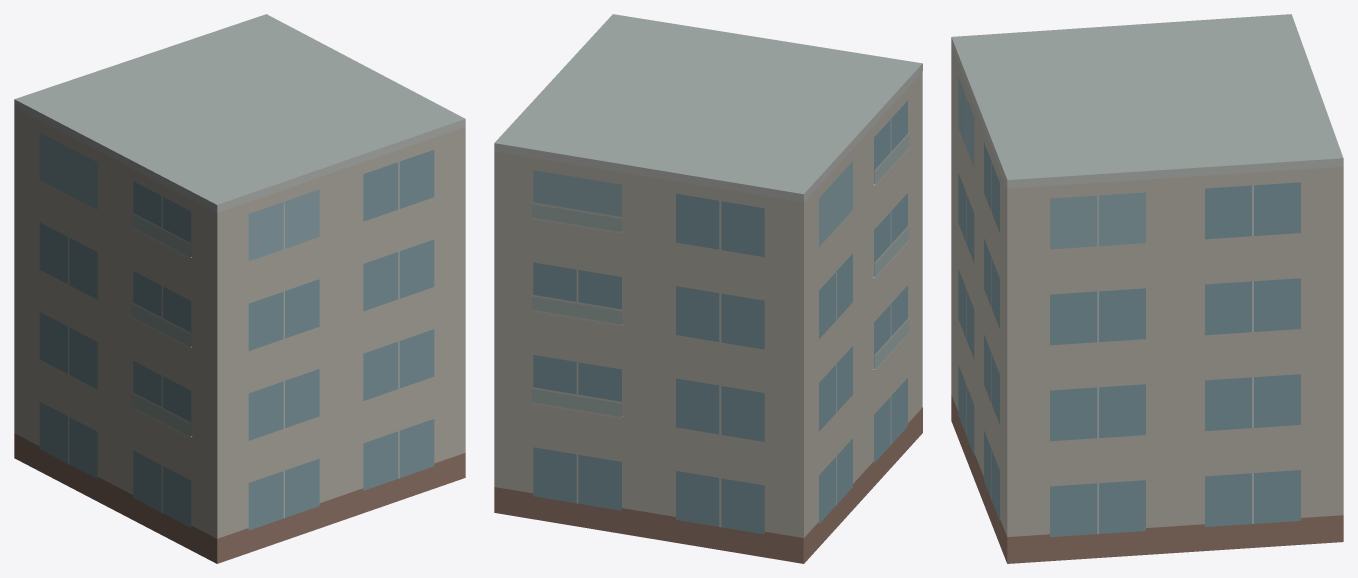
File: survey-upis-33030180.glb
The picture shows the model from 3 angles, left to right: view 1: azimuth 30°, elevation 25°; view 2: azimuth 150°, elevation 25°; view 3: azimuth 270°, elevation 25°; orthographic projection. The views are drawn at different scales.
Visible parts, largest first — view 1: survey-upis-33030180.tmp; view 2: survey-upis-33030180.tmp; view 3: survey-upis-33030180.tmp.
Part boxes in pixels (box(x1,y1,x2,y2)): survey-upis-33030180.tmp: box(14, 14, 465, 563); survey-upis-33030180.tmp: box(494, 14, 922, 563); survey-upis-33030180.tmp: box(951, 14, 1343, 563).
Bounding box in the file's own units: 10.32 × 11.1 × 10.29.
